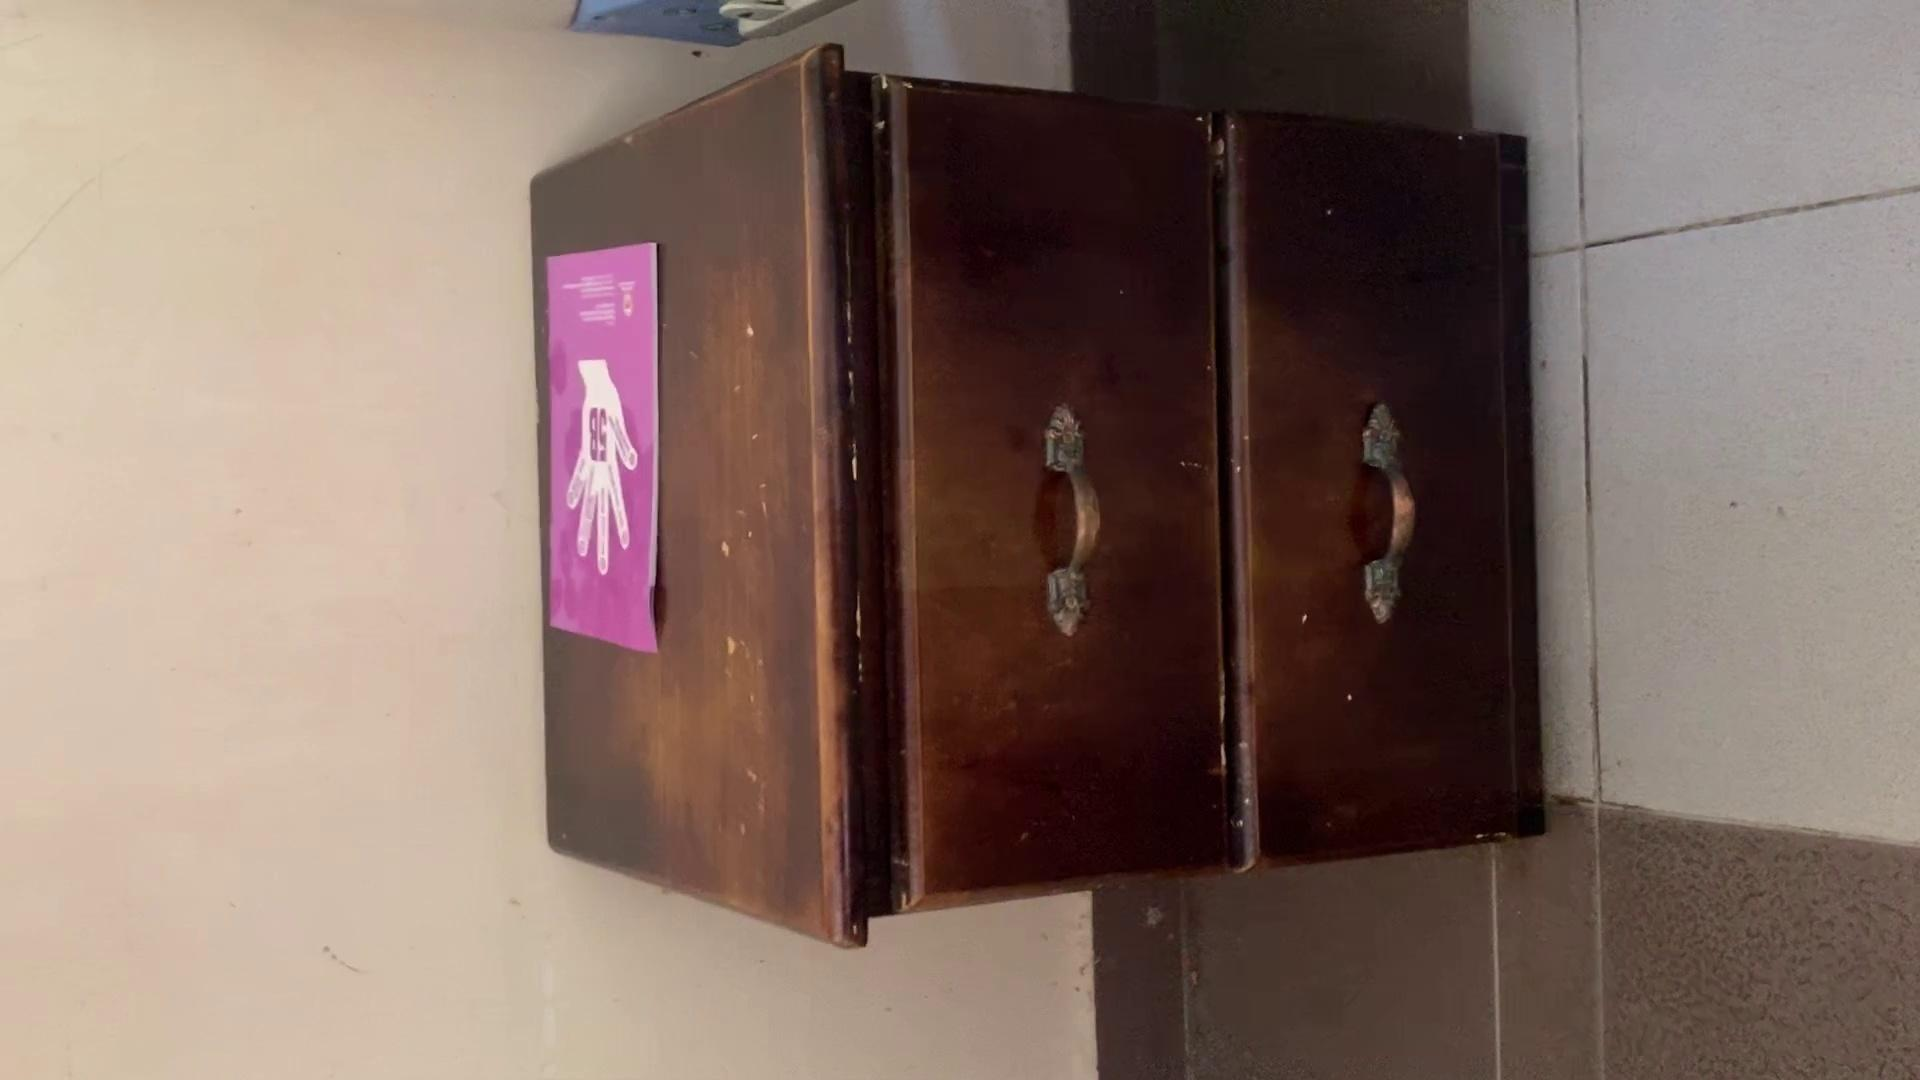cabinet_door: (890, 96, 1225, 889)
handle: (1031, 406, 1114, 644), (1349, 396, 1428, 626)
